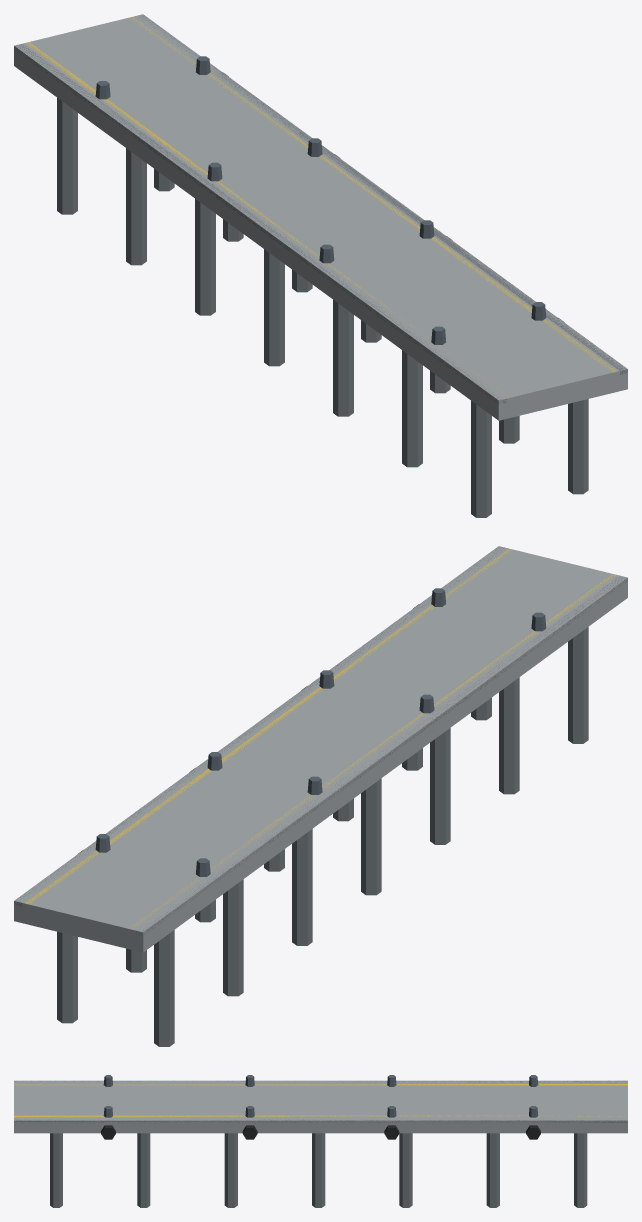
File: pier.glb
3 views of the same model, one above another, from view 1: azimuth 30°, elevation 25°; view 2: azimuth 150°, elevation 25°; view 3: azimuth 270°, elevation 25° (orthographic). The views are drawn at different scales.
Parts seen in each view (by area): view 1: Body; view 2: Body; view 3: Body.
Part boxes in pixels (bbox=[...]): Body: bbox=[14, 14, 627, 517]; Body: bbox=[14, 546, 627, 1046]; Body: bbox=[14, 1075, 627, 1207].
Size of the model in its own units: 4.25 by 4.6 by 26.
